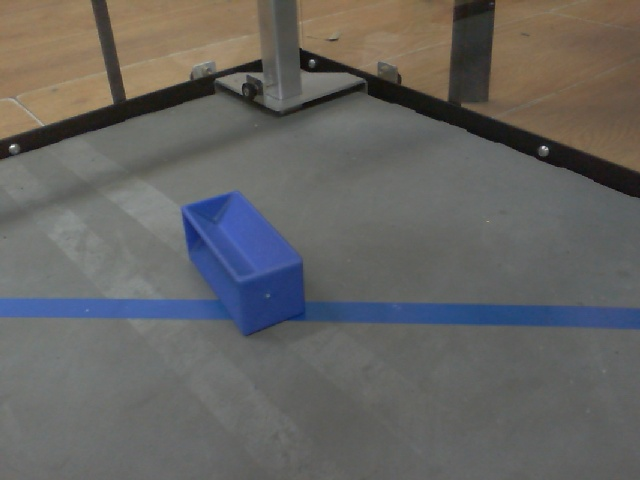BlueSample: (179, 187, 309, 340)
